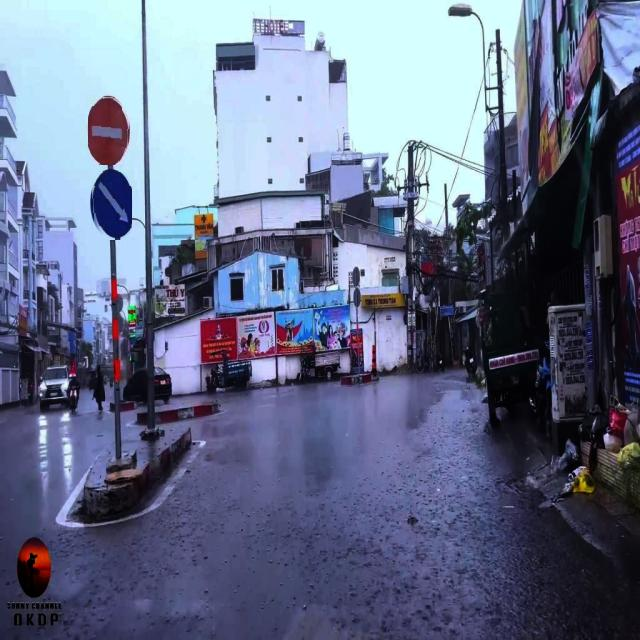cam_xe_di_nguoc_chieu: (88, 95, 130, 166)
huong_phai_di_vuot_chuong_ngai_vat_phai: (90, 165, 132, 240)
